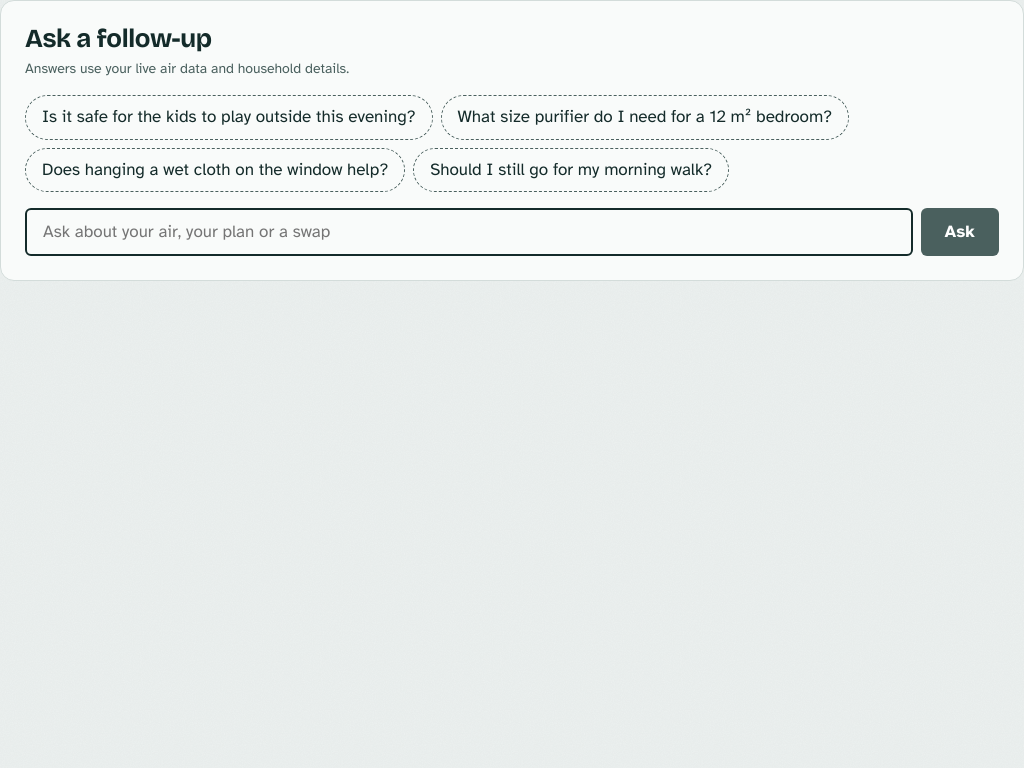
Scenario: AskCoach › shows the server's message when a question fails
The width and height of the screenshot is (1024, 768).
Click the button "Should I still go for my morning walk?".
click(571, 170)  # box left=413, top=148, right=729, bottom=192
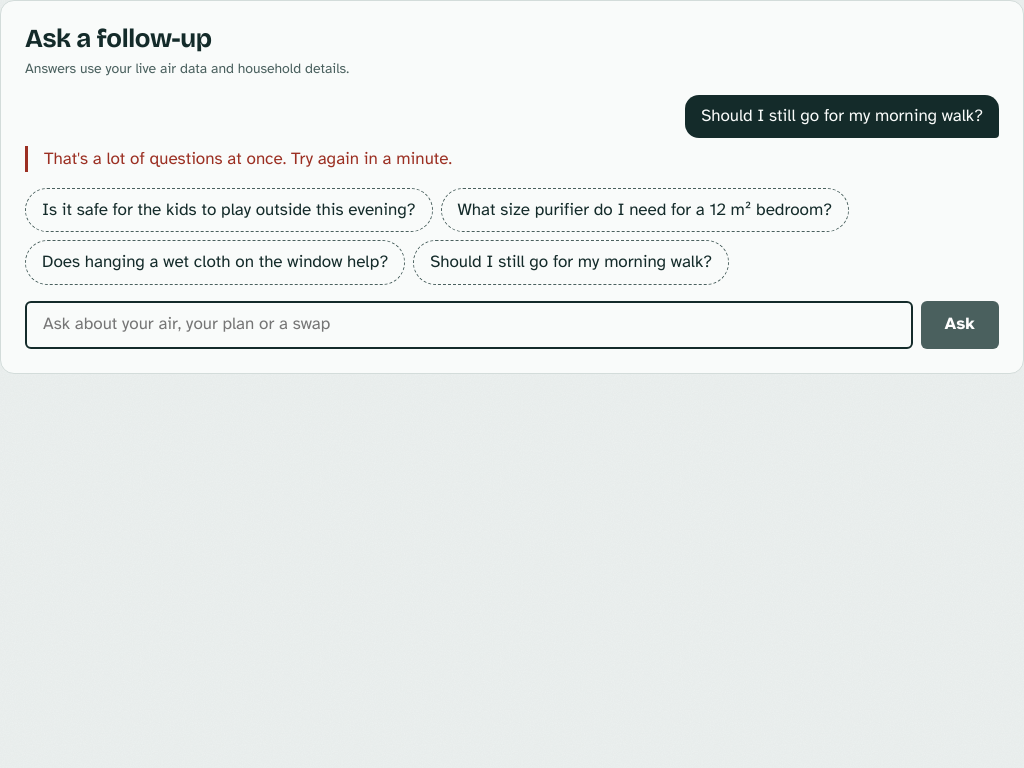
Result: the text "That's a lot of questions at once. Try again in a minute." is shown at left=25, top=146, right=708, bottom=172
